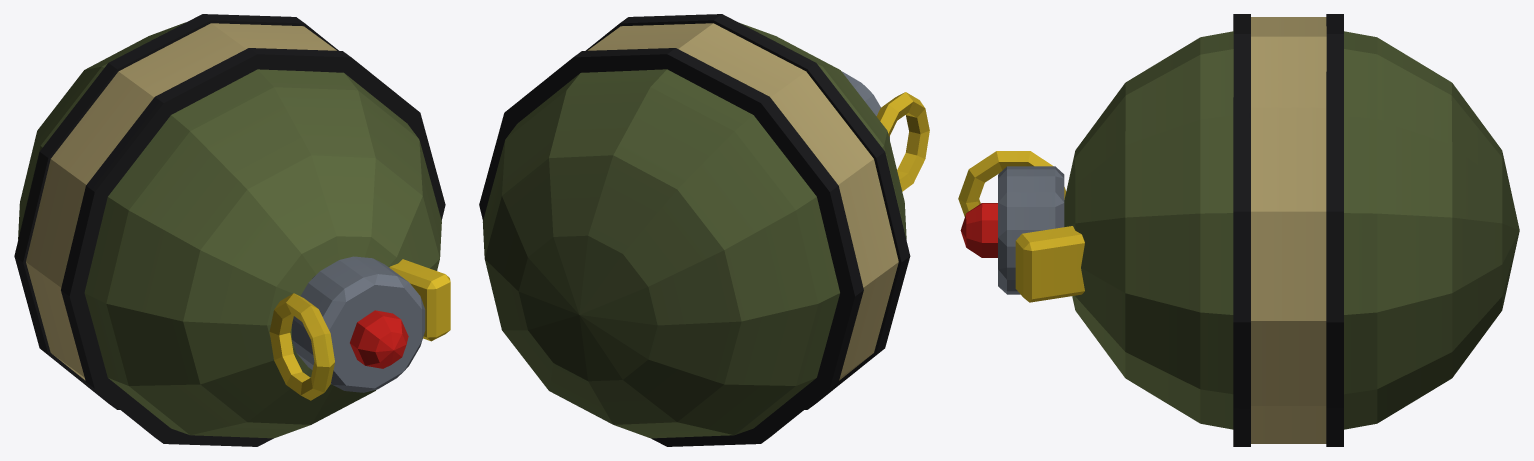
Rendered from frag.glb.
The picture shows the model from 3 angles, left to right: view 1: azimuth 30°, elevation 25°; view 2: azimuth 150°, elevation 25°; view 3: azimuth 270°, elevation 25°; orthographic projection.
Parts seen in each view (by area): view 1: frag; view 2: frag; view 3: frag.
Boxes of the visible parts, x1,y1,x2,y2 form: frag: (14,14,450,446); frag: (479,14,929,446); frag: (958,14,1519,446).
Size of the model in its own units: 0.1967 by 0.1963 by 0.254.
